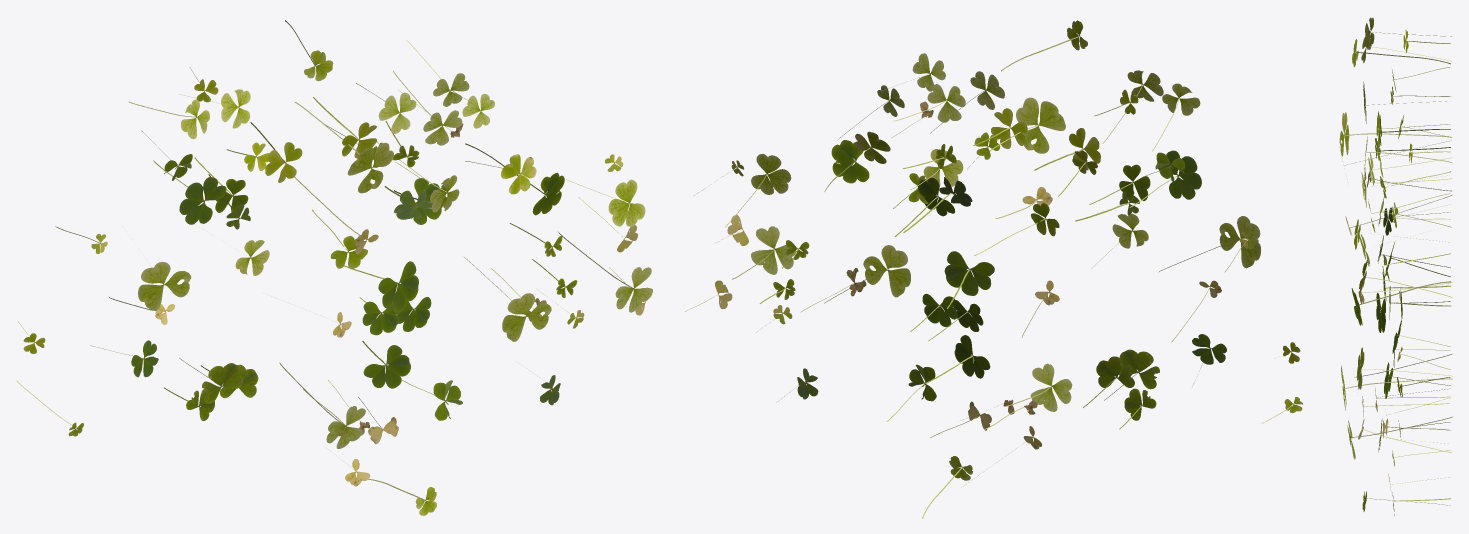
Rendered from Clovers_02_Var2_LOD2.fbx.
3 views of the same model, side by side, from view 1: azimuth 30°, elevation 25°; view 2: azimuth 150°, elevation 25°; view 3: azimuth 270°, elevation 25° (orthographic). The views are drawn at different scales.
Visible parts, largest first — view 1: Var2_LOD2; view 2: Var2_LOD2; view 3: Var2_LOD2.
Boxes of the visible parts, bbox=[...] form: Var2_LOD2: bbox=[16, 20, 652, 515]; Var2_LOD2: bbox=[685, 20, 1302, 518]; Var2_LOD2: bbox=[1339, 17, 1452, 515].
Size of the model in its own units: 67.56 by 52.1 by 12.96.
